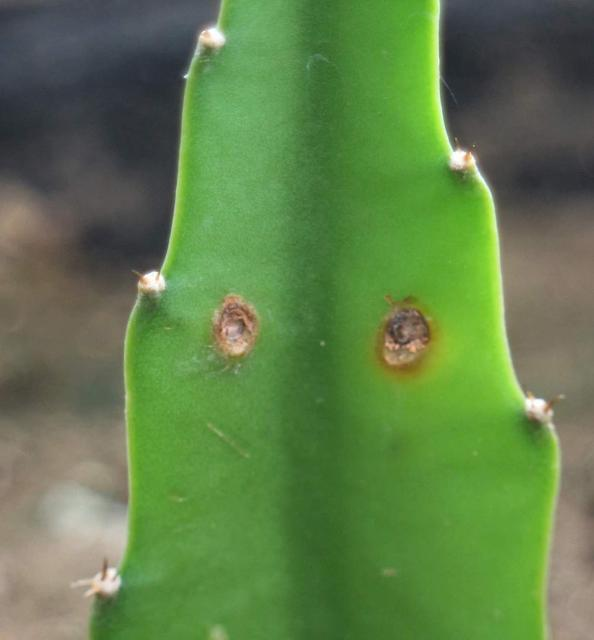stemcanker: (374, 295, 439, 379), (208, 293, 260, 365)
